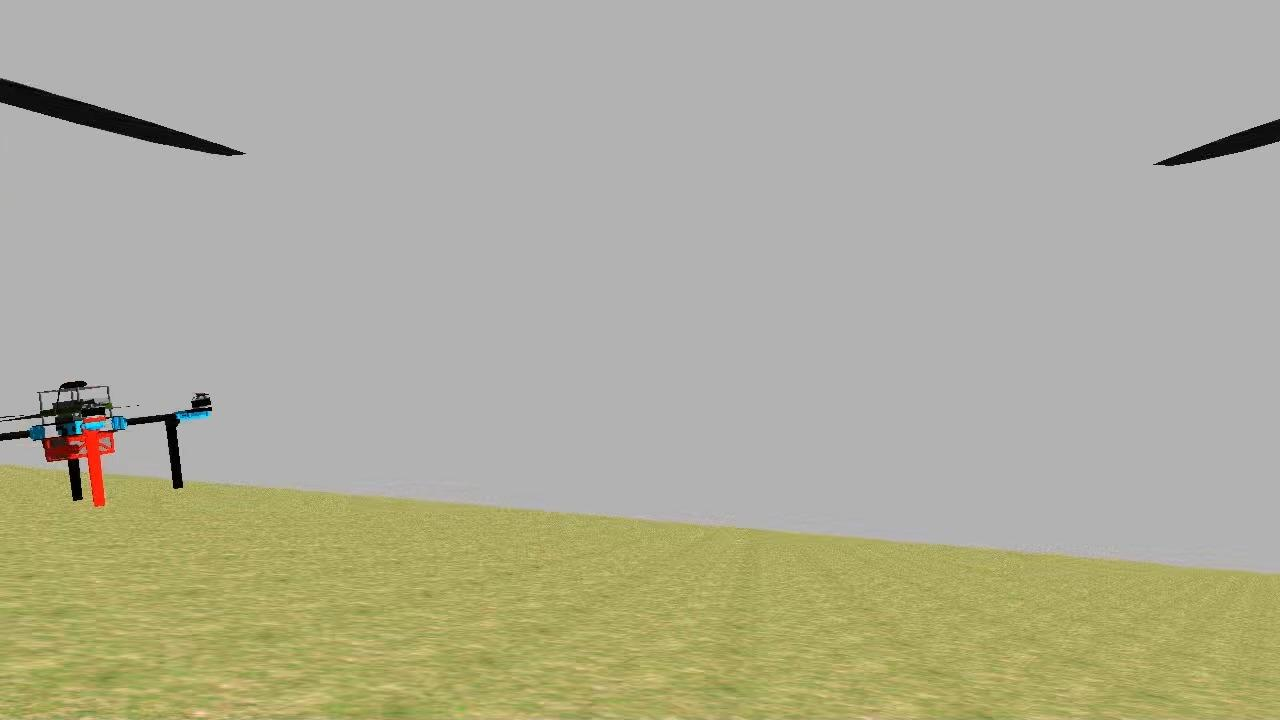UAV: (0, 368, 228, 536)
